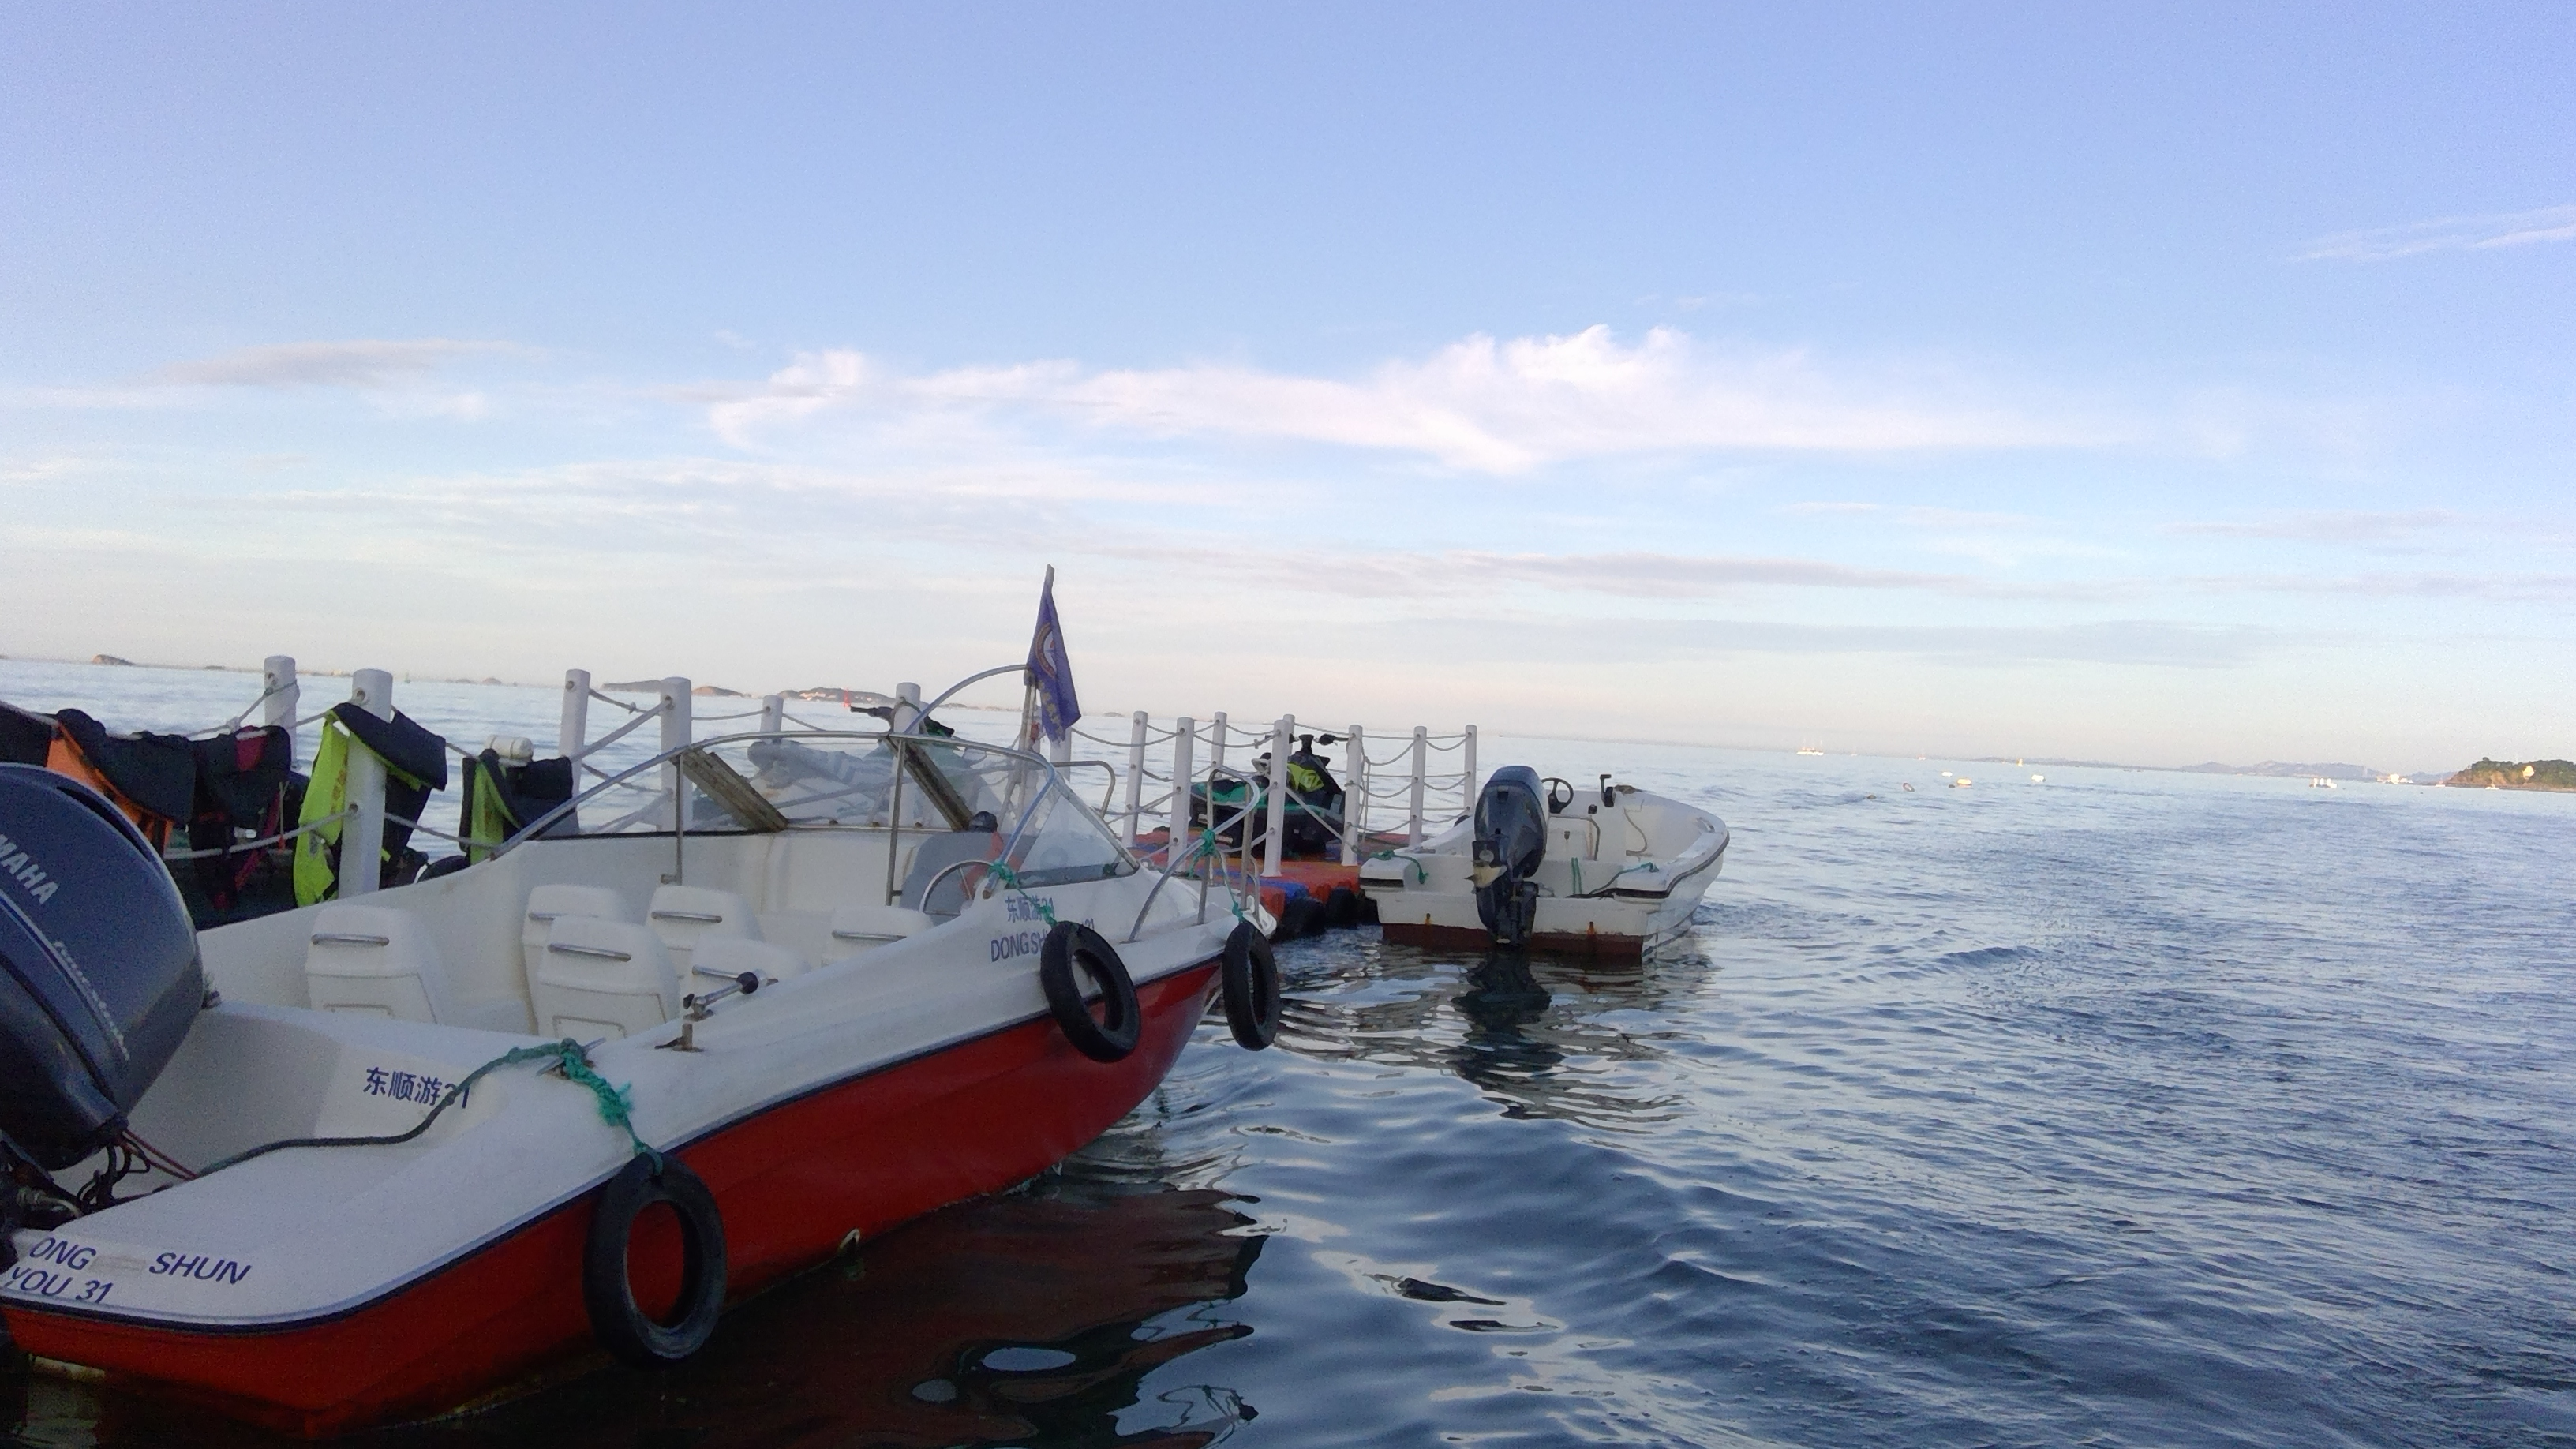boat: (0, 692, 1283, 1405), (1361, 763, 1778, 955), (1138, 683, 1398, 954)
rock: (2434, 745, 2576, 812)
